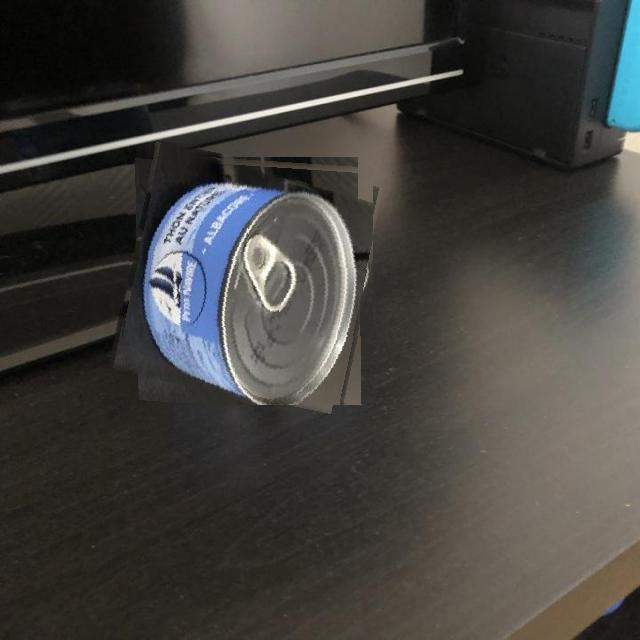recyclable: (119, 151, 373, 405)
